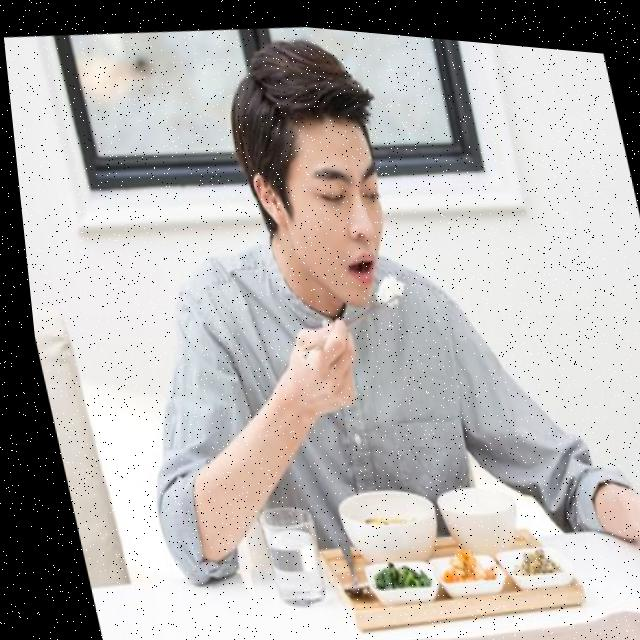eating-person: (43, 3, 640, 640)
